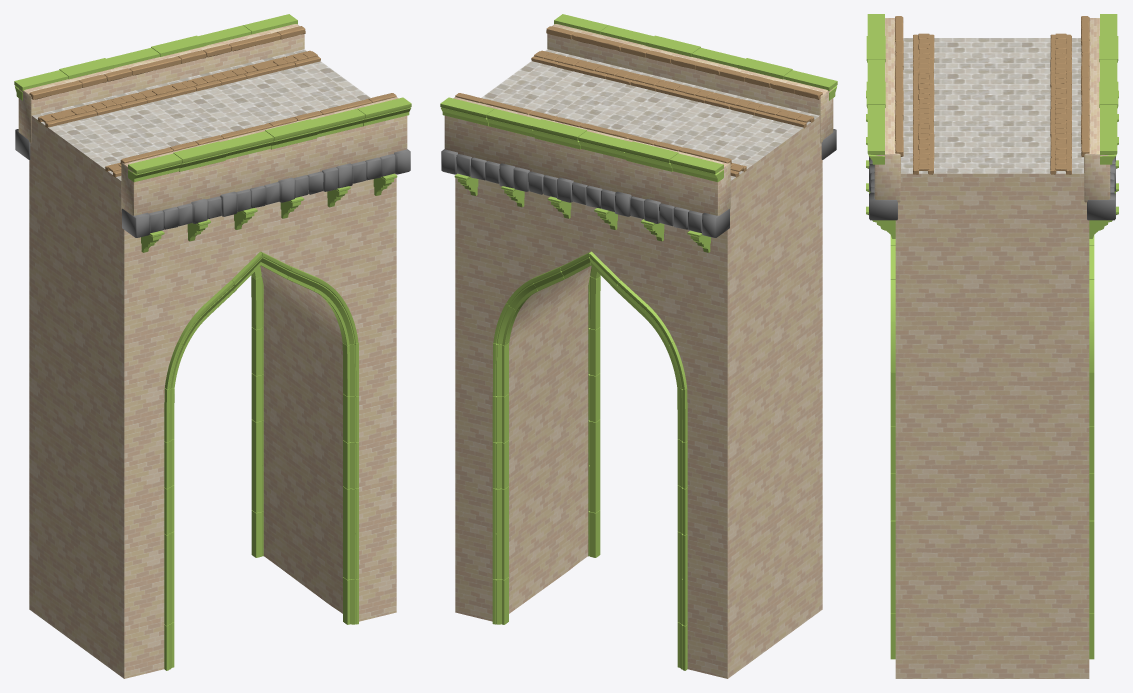
The model's file is SM_bridge_module_01.fbx.
3 views of the same model, side by side, from view 1: azimuth 30°, elevation 25°; view 2: azimuth 150°, elevation 25°; view 3: azimuth 270°, elevation 25° (orthographic).
Parts seen in each view (by area): view 1: Object33246; view 2: Object33246; view 3: Object33246.
Boxes of the visible parts, x1,y1,x2,y2 form: Object33246: (14, 14, 411, 678); Object33246: (440, 14, 837, 678); Object33246: (866, 14, 1118, 678).
Size of the model in its own units: 668 by 1205 by 522.
